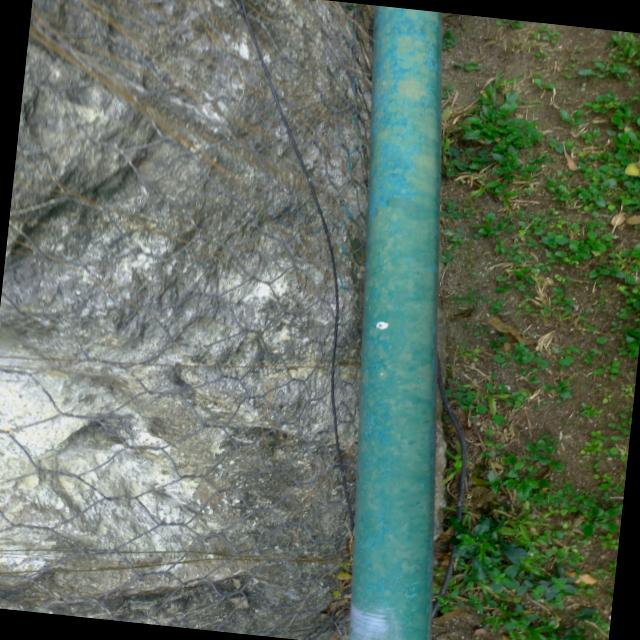gas: (354, 4, 445, 640)
